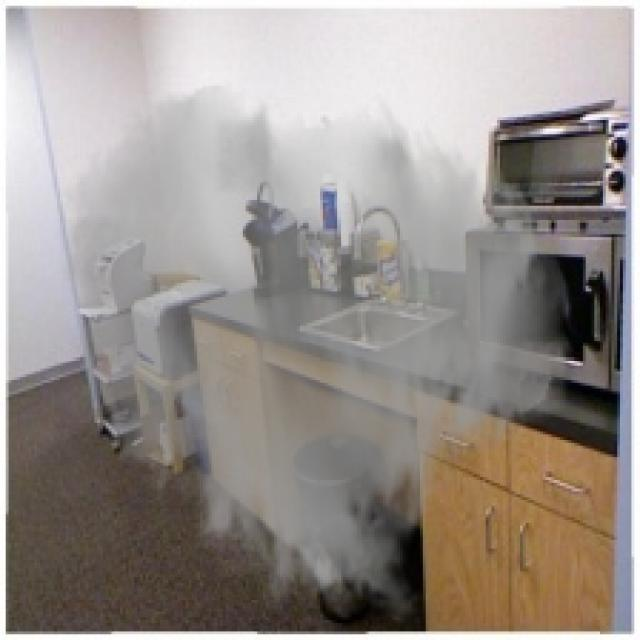Smoke: (54, 80, 577, 626)
